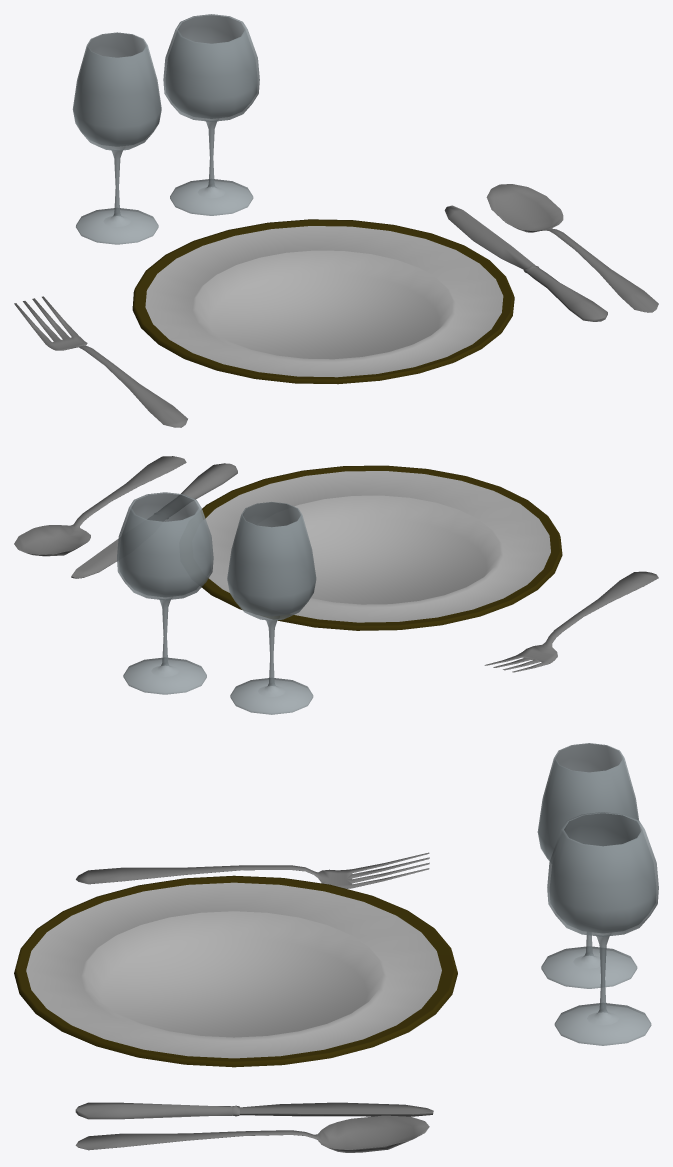
The model's file is ensemble-assiette-couteau-fourchette-cuillere-verre.obj.
The picture shows the model from 3 angles, top to bottom: view 1: azimuth 30°, elevation 25°; view 2: azimuth 150°, elevation 25°; view 3: azimuth 270°, elevation 25°; orthographic projection. The views are drawn at different scales.
Visible parts, largest first — view 1: dish_Circle, winecup_Plane.006, watercup_Plane.005, spoon_Plane.001, fork.002_Plane.002, fork_Plane; view 2: dish_Circle, winecup_Plane.006, watercup_Plane.005, spoon_Plane.001, fork_Plane, fork.002_Plane.002; view 3: dish_Circle, winecup_Plane.006, watercup_Plane.005, spoon_Plane.001, fork.002_Plane.002, fork_Plane.
Boxes of the visible parts, x1,y1,x2,y2 form: dish_Circle: (132,219,514,384); winecup_Plane.006: (163,14,259,215); watercup_Plane.005: (72,32,161,244); spoon_Plane.001: (486,184,658,312); fork.002_Plane.002: (444,205,607,321); fork_Plane: (14,296,187,427); dish_Circle: (201,465,562,630); winecup_Plane.006: (117,492,213,694); watercup_Plane.005: (227,502,316,714); spoon_Plane.001: (14,456,186,556); fork_Plane: (484,571,658,672); fork.002_Plane.002: (71,463,237,578); dish_Circle: (14,875,457,1067); winecup_Plane.006: (547,812,658,1045); watercup_Plane.005: (537,743,638,988); spoon_Plane.001: (75,1115,429,1152); fork.002_Plane.002: (75,1102,433,1119); fork_Plane: (76,852,429,888).
Bounding box in the file's own units: 41.67 × 14.06 × 38.99.
